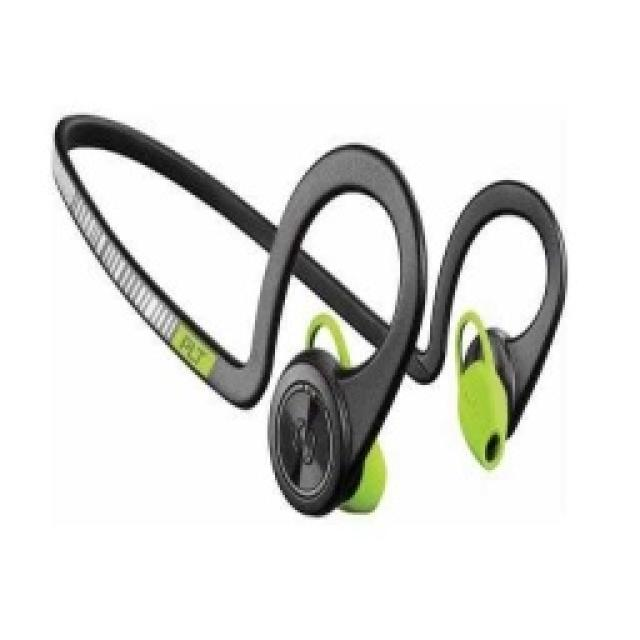headphones: (48, 110, 568, 515)
